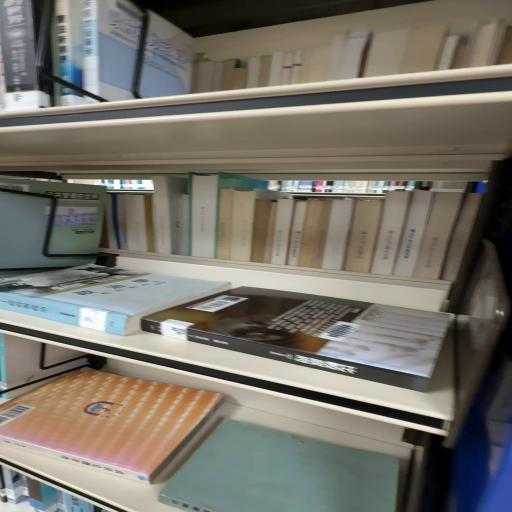flat: (142, 288, 452, 393), (1, 369, 225, 484), (159, 420, 399, 512), (1, 265, 232, 336)
